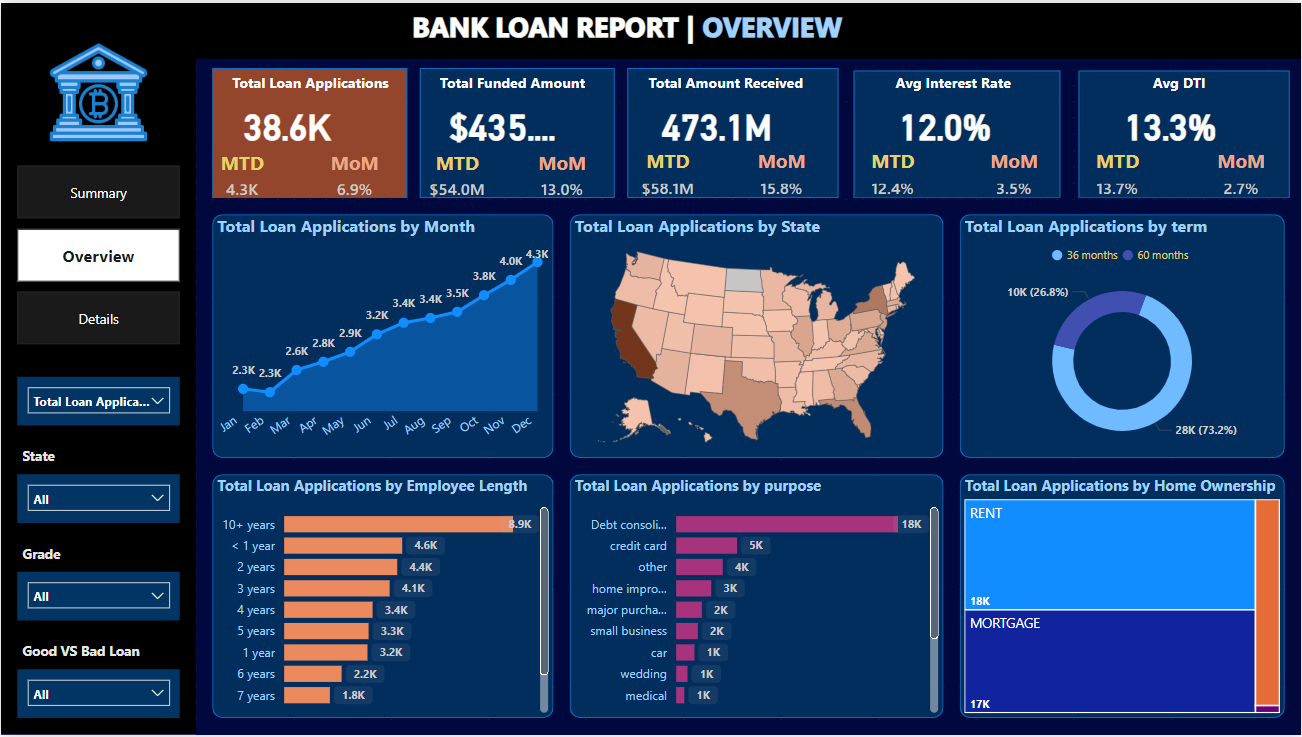

The dashboard page shown, as its layout file describes it:
{"tool":"powerbi","page":{"name":"Overview","canvas":[1280,720],"ordinal":1},"visuals":[{"type":"shape","box":[0,48,192,672],"z":0},{"type":"shape","box":[0,0,1280,55],"z":1000},{"type":"textbox","box":[400,0,448,48],"z":2000},{"type":"shape","box":[208,64,192,128],"z":2000,"group":"g6"},{"type":"shape","box":[412,64,192,128],"z":2000,"group":"g2"},{"type":"shape","box":[616,64,208,128],"z":2000,"group":"g3"},{"type":"shape","box":[840.3,66,203.7,126],"z":2000,"group":"g4"},{"type":"shape","box":[1060.4,66,208,126],"z":2000,"group":"g7"},{"type":"group","id":"g1","title":"Group 1","box":[208,64,192,128],"z":3000},{"type":"group","id":"g2","title":"Group 4","box":[412,64,192,128],"z":4000},{"type":"card","fields":{"Values":["financial_loan.Total Amount Received"]},"box":[632,95.5,144,47.2],"z":4000,"group":"g3"},{"type":"card","fields":{"Values":["financial_loan.Average Interest Rate"]},"box":[853,95.5,152.8,47.2],"z":4000,"group":"g4"},{"type":"card","fields":{"Values":["financial_loan.Avg DTI"]},"box":[1073.3,95.5,156,47.2],"z":4000,"group":"g7"},{"type":"card","fields":{"Values":["financial_loan.Total Loan Applications"]},"box":[222.8,96,118.2,48],"z":4000,"group":"g6"},{"type":"card","fields":{"Values":["financial_loan.Total Funded Amount"]},"box":[426.8,96,132.9,48],"z":4000,"group":"g2"},{"type":"textbox","box":[222.8,64,177.2,32],"z":5000,"group":"g6"},{"type":"textbox","box":[426.8,64,177.2,32],"z":5000,"group":"g2"},{"type":"textbox","box":[632,64,192,31.5],"z":5000,"group":"g3"},{"type":"textbox","box":[836,64,203.7,32],"z":5000,"group":"g4"},{"type":"textbox","box":[1056,64,208,32],"z":5000,"group":"g7"},{"type":"shape","box":[208,208,336,240],"z":5000},{"type":"group","id":"g3","title":"Group 4","box":[616,64,208,128],"z":6000},{"type":"card","title":"MTD","fields":{"Values":["financial_loan.MTD Total Amount Received"]},"box":[616,142.7,80,47.2],"z":6000,"group":"g3"},{"type":"card","title":"MTD","fields":{"Values":["financial_loan.MTD Avg Interest Rate"]},"box":[836,142.7,84.9,47.2],"z":6000,"group":"g4"},{"type":"card","title":"MTD","fields":{"Values":["financial_loan.MTD Avg DTI"]},"box":[1056,142.7,86.7,47.2],"z":6000,"group":"g7"},{"type":"card","title":"MTD","fields":{"Values":["financial_loan.MTD Loan Applications"]},"box":[208,144,59.1,48],"z":6000,"group":"g6"},{"type":"card","title":"MTD","fields":{"Values":["financial_loan.MTD Funded Amount"]},"box":[412,144,73.8,48],"z":6000,"group":"g2"},{"type":"group","id":"g4","title":"Group 4","box":[836,64,208,128],"z":7000},{"type":"card","title":"MoM","fields":{"Values":["financial_loan.MoM Total Amount Received"]},"box":[728,142.7,80,47.2],"z":7000,"group":"g3"},{"type":"card","title":"MoM","fields":{"Values":["financial_loan.MoM Avg Interest Rate"]},"box":[954.8,142.7,84.9,47.2],"z":7000,"group":"g4"},{"type":"card","title":"MoM","fields":{"Values":["financial_loan.MoM Avg DTI"]},"box":[1177.3,142.7,86.7,47.2],"z":7000,"group":"g7"},{"type":"card","title":"MoM","fields":{"Values":["financial_loan.MoM Loan Applications"]},"box":[311.4,144,73.8,48],"z":7000,"group":"g6"},{"type":"card","title":"MoM","fields":{"Values":["financial_loan.MoM Funded Amount"]},"box":[515.4,144,73.8,48],"z":7000,"group":"g2"},{"type":"group","id":"g5","title":"Group 2","box":[208,64,192,128],"z":7002,"group":"g1"},{"type":"group","id":"g6","title":"Group 3","box":[208,64,192,128],"z":7002,"group":"g5"},{"type":"group","id":"g7","title":"Group 4","box":[1056,64,208,128],"z":8000},{"type":"slicer","fields":{"Values":["financial_loan.address_state"]},"box":[16,464,160,48],"z":9000},{"type":"textbox","box":[16,432,64,32],"z":10000},{"type":"slicer","fields":{"Values":["financial_loan.grade"]},"box":[16,560,160,48],"z":11000},{"type":"slicer","fields":{"Values":["financial_loan.Good VS Bad Loan"]},"box":[16,656,160,48],"z":12000},{"type":"textbox","box":[16,528,64,32],"z":13000},{"type":"textbox","box":[16,624,144,32],"z":14000},{"type":"areaChart","fields":{"Y":["financial_loan.Total Loan Applications"],"Category":["Date Table.Month"]},"box":[208,208,336,240],"z":15000},{"type":"slicer","fields":{"Values":["Select Measure.Select Measure"]},"box":[16,368,160,48],"z":16000},{"type":"shape","box":[560,208,368,240],"z":17000},{"type":"shapeMap","fields":{"Category":["financial_loan.address_state"],"Value":["financial_loan.Total Loan Applications"]},"box":[560,208,368,240],"z":18000},{"type":"shape","box":[944,208,320,240],"z":18001},{"type":"donutChart","fields":{"Category":["financial_loan.term"],"Y":["financial_loan.Total Loan Applications"]},"box":[944,208,320,240],"z":18002},{"type":"shape","box":[208,464,336,240],"z":18003},{"type":"clusteredBarChart","fields":{"Category":["financial_loan.emp_length"],"Y":["financial_loan.Total Loan Applications"]},"box":[208,464,336,240],"z":18004},{"type":"shape","box":[560,464,368,240],"z":18005},{"type":"shape","box":[944,464,320,240],"z":18006},{"type":"clusteredBarChart","fields":{"Category":["financial_loan.purpose"],"Y":["financial_loan.Total Loan Applications"]},"box":[560,464,368,240],"z":18007},{"type":"treemap","fields":{"Group":["financial_loan.home_ownership"],"Values":["financial_loan.Total Loan Applications"]},"box":[944,464,320,240],"z":18008},{"type":"pageNavigator","box":[16,160,160,176],"z":18009},{"type":"image","box":[32,32,128,112],"z":18010}]}

Visuals, with their boxes in screenshot pixels (x1, y1, x2, y2), scaled from the page's 1280x720 canvas onto the 1302x737 screenshot:
shape: pyautogui.locateOnScreen(0, 49, 195, 736)
shape: pyautogui.locateOnScreen(0, 0, 1301, 56)
textbox: pyautogui.locateOnScreen(407, 0, 863, 49)
shape: pyautogui.locateOnScreen(212, 66, 407, 197)
shape: pyautogui.locateOnScreen(419, 66, 614, 197)
shape: pyautogui.locateOnScreen(627, 66, 838, 197)
shape: pyautogui.locateOnScreen(855, 68, 1062, 197)
shape: pyautogui.locateOnScreen(1079, 68, 1290, 197)
"Group 1" group: pyautogui.locateOnScreen(212, 66, 407, 197)
"Group 4" group: pyautogui.locateOnScreen(419, 66, 614, 197)
card - financial_loan.Total Amount Received: pyautogui.locateOnScreen(643, 98, 789, 146)
card - financial_loan.Average Interest Rate: pyautogui.locateOnScreen(868, 98, 1023, 146)
card - financial_loan.Avg DTI: pyautogui.locateOnScreen(1092, 98, 1250, 146)
card - financial_loan.Total Loan Applications: pyautogui.locateOnScreen(227, 98, 347, 147)
card - financial_loan.Total Funded Amount: pyautogui.locateOnScreen(434, 98, 569, 147)
textbox: pyautogui.locateOnScreen(227, 66, 407, 98)
textbox: pyautogui.locateOnScreen(434, 66, 614, 98)
textbox: pyautogui.locateOnScreen(643, 66, 838, 98)
textbox: pyautogui.locateOnScreen(850, 66, 1058, 98)
textbox: pyautogui.locateOnScreen(1074, 66, 1286, 98)
shape: pyautogui.locateOnScreen(212, 213, 553, 459)
"Group 4" group: pyautogui.locateOnScreen(627, 66, 838, 197)
"MTD" card: pyautogui.locateOnScreen(627, 146, 708, 194)
"MTD" card: pyautogui.locateOnScreen(850, 146, 937, 194)
"MTD" card: pyautogui.locateOnScreen(1074, 146, 1162, 194)
"MTD" card: pyautogui.locateOnScreen(212, 147, 272, 197)
"MTD" card: pyautogui.locateOnScreen(419, 147, 494, 197)
"Group 4" group: pyautogui.locateOnScreen(850, 66, 1062, 197)
"MoM" card: pyautogui.locateOnScreen(741, 146, 822, 194)
"MoM" card: pyautogui.locateOnScreen(971, 146, 1058, 194)
"MoM" card: pyautogui.locateOnScreen(1198, 146, 1286, 194)
"MoM" card: pyautogui.locateOnScreen(317, 147, 392, 197)
"MoM" card: pyautogui.locateOnScreen(524, 147, 599, 197)
"Group 2" group: pyautogui.locateOnScreen(212, 66, 407, 197)
"Group 3" group: pyautogui.locateOnScreen(212, 66, 407, 197)
"Group 4" group: pyautogui.locateOnScreen(1074, 66, 1286, 197)
slicer - financial_loan.address_state: pyautogui.locateOnScreen(16, 475, 179, 524)
textbox: pyautogui.locateOnScreen(16, 442, 81, 475)
slicer - financial_loan.grade: pyautogui.locateOnScreen(16, 573, 179, 622)
slicer - financial_loan.Good VS Bad Loan: pyautogui.locateOnScreen(16, 671, 179, 721)
textbox: pyautogui.locateOnScreen(16, 540, 81, 573)
textbox: pyautogui.locateOnScreen(16, 639, 163, 671)
areaChart - financial_loan.Total Loan Applications x Date Table.Month: pyautogui.locateOnScreen(212, 213, 553, 459)
slicer - Select Measure.Select Measure: pyautogui.locateOnScreen(16, 377, 179, 426)
shape: pyautogui.locateOnScreen(570, 213, 944, 459)
shapeMap - financial_loan.address_state x financial_loan.Total Loan Applications: pyautogui.locateOnScreen(570, 213, 944, 459)
shape: pyautogui.locateOnScreen(960, 213, 1286, 459)
donutChart - financial_loan.term x financial_loan.Total Loan Applications: pyautogui.locateOnScreen(960, 213, 1286, 459)
shape: pyautogui.locateOnScreen(212, 475, 553, 721)
clusteredBarChart - financial_loan.emp_length x financial_loan.Total Loan Applications: pyautogui.locateOnScreen(212, 475, 553, 721)
shape: pyautogui.locateOnScreen(570, 475, 944, 721)
shape: pyautogui.locateOnScreen(960, 475, 1286, 721)
clusteredBarChart - financial_loan.purpose x financial_loan.Total Loan Applications: pyautogui.locateOnScreen(570, 475, 944, 721)
treemap - financial_loan.home_ownership x financial_loan.Total Loan Applications: pyautogui.locateOnScreen(960, 475, 1286, 721)
pageNavigator: pyautogui.locateOnScreen(16, 164, 179, 344)
image: pyautogui.locateOnScreen(33, 33, 163, 147)
